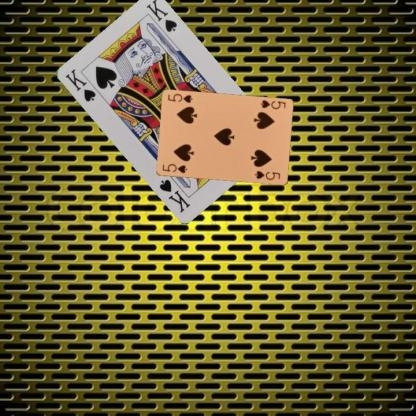5s: (159, 161, 188, 175), (258, 98, 286, 110)
Ks: (62, 66, 97, 103)
